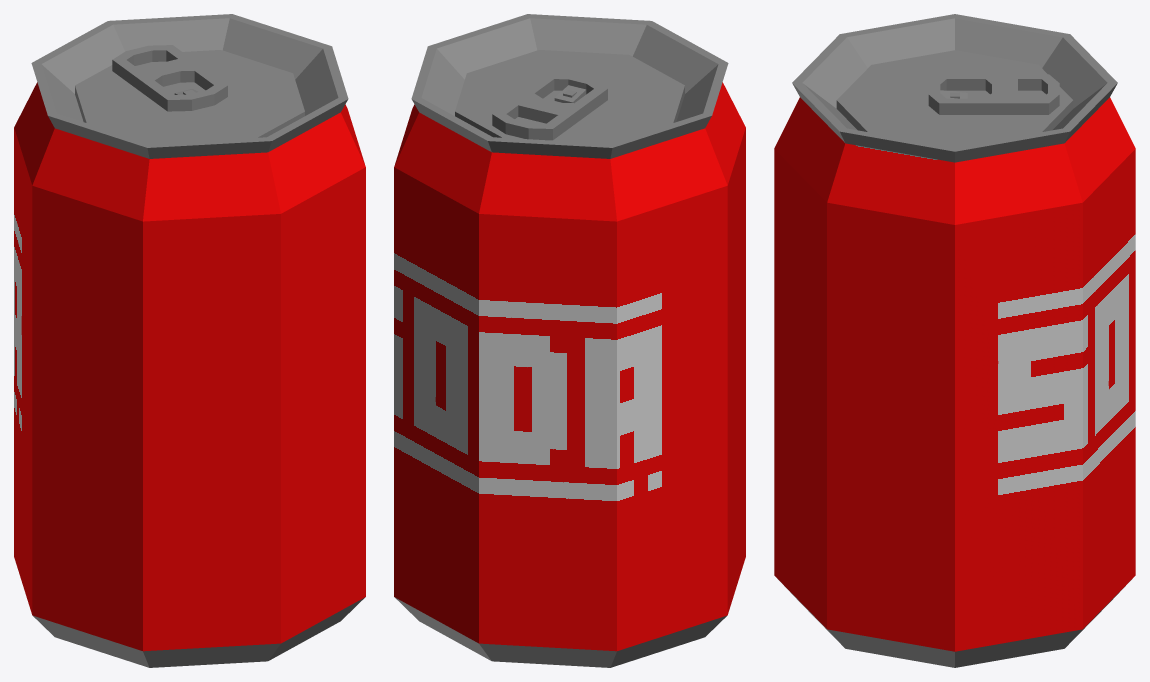
File: Soda Can.obj
3 views of the same model, side by side, from view 1: azimuth 30°, elevation 25°; view 2: azimuth 150°, elevation 25°; view 3: azimuth 270°, elevation 25° (orthographic).
Visible parts, largest first — view 1: Cylinder; view 2: Cylinder; view 3: Cylinder.
Boxes of the visible parts, x1,y1,x2,y2 form: Cylinder: (14, 14, 365, 667); Cylinder: (394, 14, 745, 667); Cylinder: (774, 14, 1135, 667).
Bounding box in the file's own units: 1.26 × 2 × 1.26.
